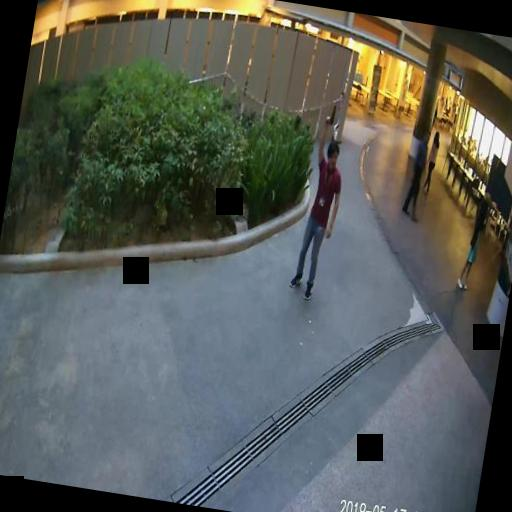Handgun: (324, 102, 336, 124)
